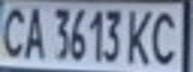1: (84, 6, 106, 63)
3: (45, 3, 72, 61), (100, 6, 127, 64)
6: (66, 3, 87, 62)
A: (18, 2, 48, 61)
C: (145, 6, 187, 69), (0, 1, 30, 60)
K: (124, 6, 157, 66)
